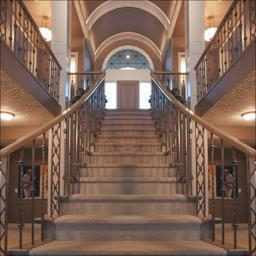Escaleras: (4, 72, 250, 253)
